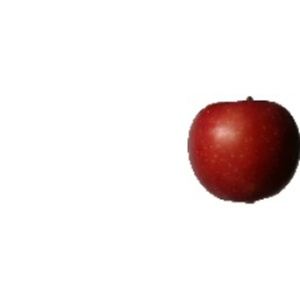maçã braeburn: (188, 96, 300, 202)
